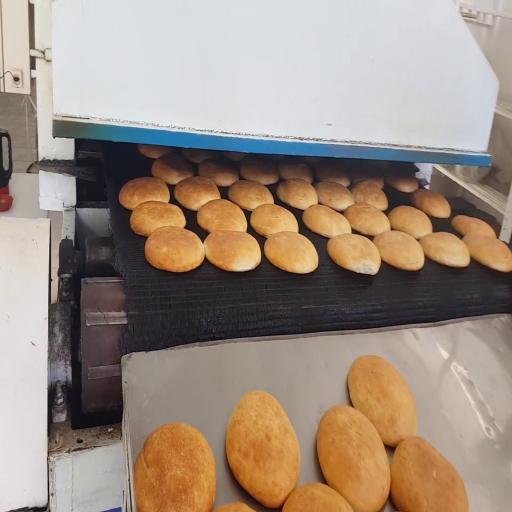bread: (226, 391, 300, 508), (317, 406, 390, 511), (134, 424, 216, 511), (348, 356, 417, 446), (391, 437, 469, 511), (145, 227, 204, 272), (204, 231, 261, 272), (264, 232, 318, 274), (327, 234, 381, 274), (373, 231, 424, 270), (283, 483, 353, 511), (130, 202, 185, 236), (463, 234, 511, 272), (420, 232, 470, 267), (119, 177, 170, 210), (197, 199, 247, 232), (174, 176, 220, 210), (251, 204, 298, 237), (303, 205, 351, 237), (344, 203, 390, 236), (388, 206, 432, 239), (228, 181, 274, 211), (276, 179, 318, 210), (152, 154, 193, 185), (314, 182, 354, 211), (198, 158, 238, 187), (352, 181, 388, 211), (413, 189, 450, 218), (240, 157, 278, 184), (452, 215, 495, 237), (316, 161, 350, 186), (278, 160, 313, 183), (351, 168, 384, 189), (385, 174, 418, 192), (138, 144, 177, 159), (182, 148, 217, 164), (215, 503, 254, 511), (223, 152, 247, 161), (264, 154, 286, 162), (304, 156, 324, 164)
